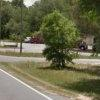Tree: (33, 5, 77, 65)
